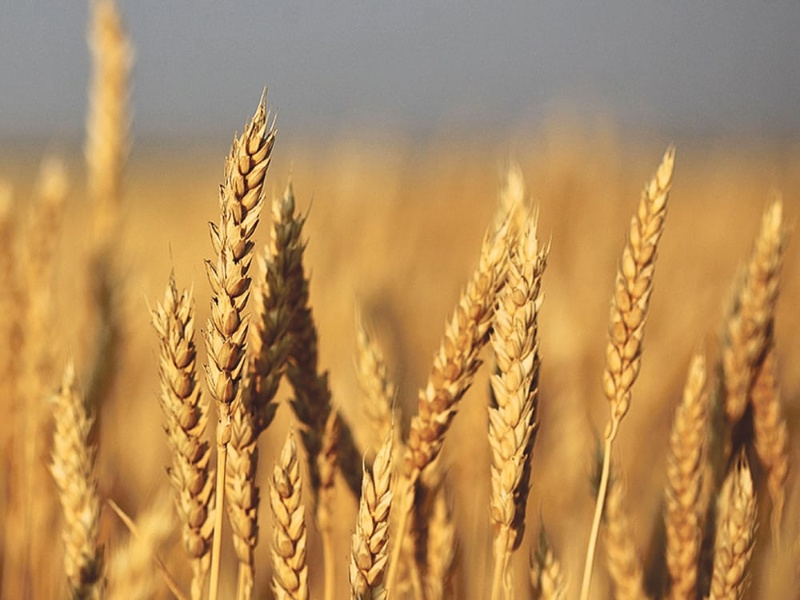wheat: (153, 77, 287, 587), (402, 133, 558, 568), (659, 175, 800, 597), (587, 133, 685, 485), (45, 362, 109, 598), (344, 389, 404, 597), (260, 420, 319, 595)
